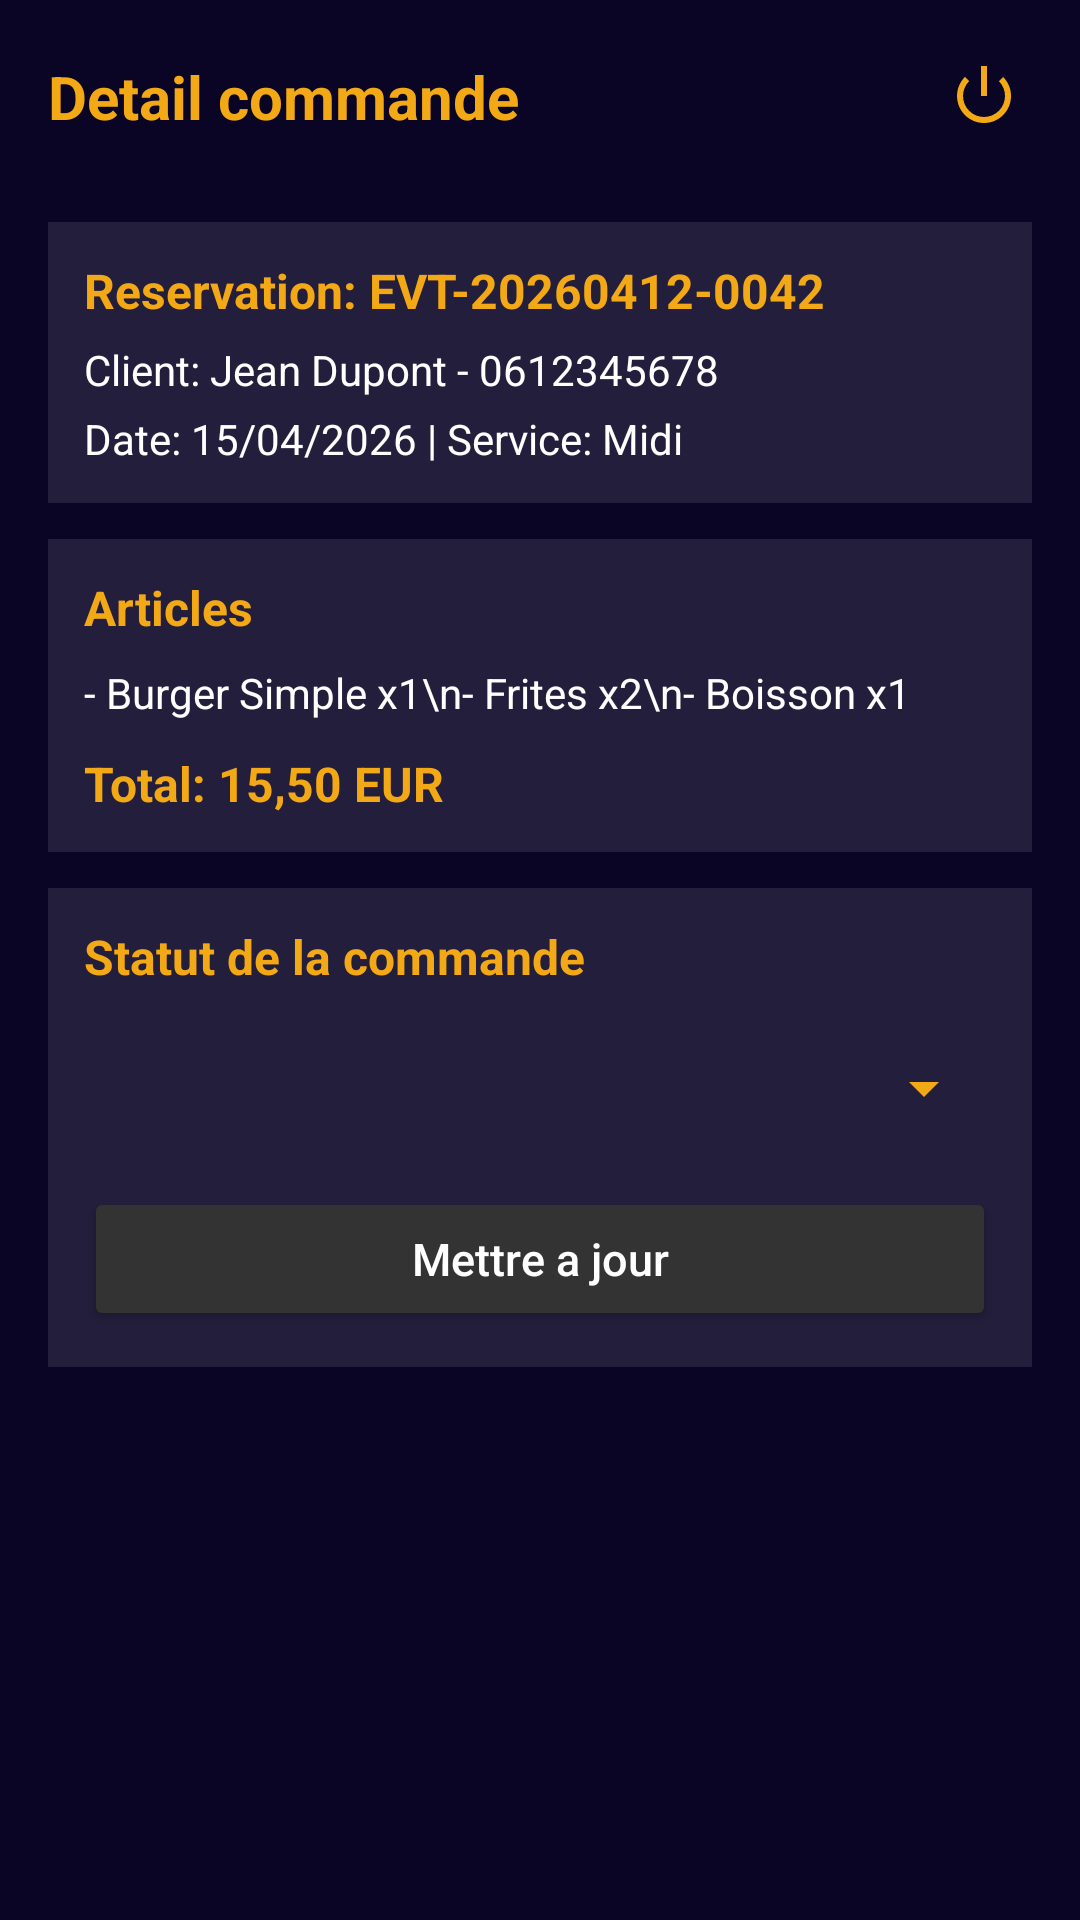

Icon click points for this 1080w x 1920h phone screenshot, format (x=x, y=y):
Se deconnecter: (x=984, y=94)
